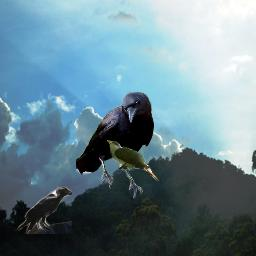Crow: (76, 92, 154, 199), (15, 185, 72, 234)
Cuckoo: (106, 140, 160, 181)
